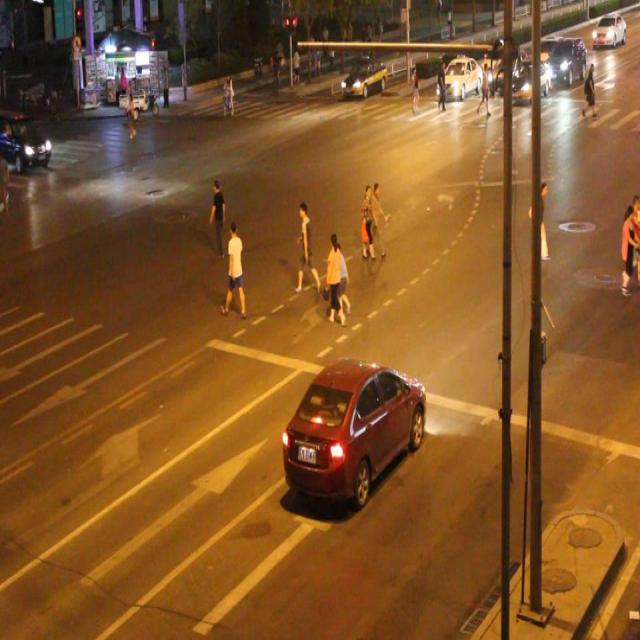car: (280, 356, 426, 507), (1, 109, 52, 173)
